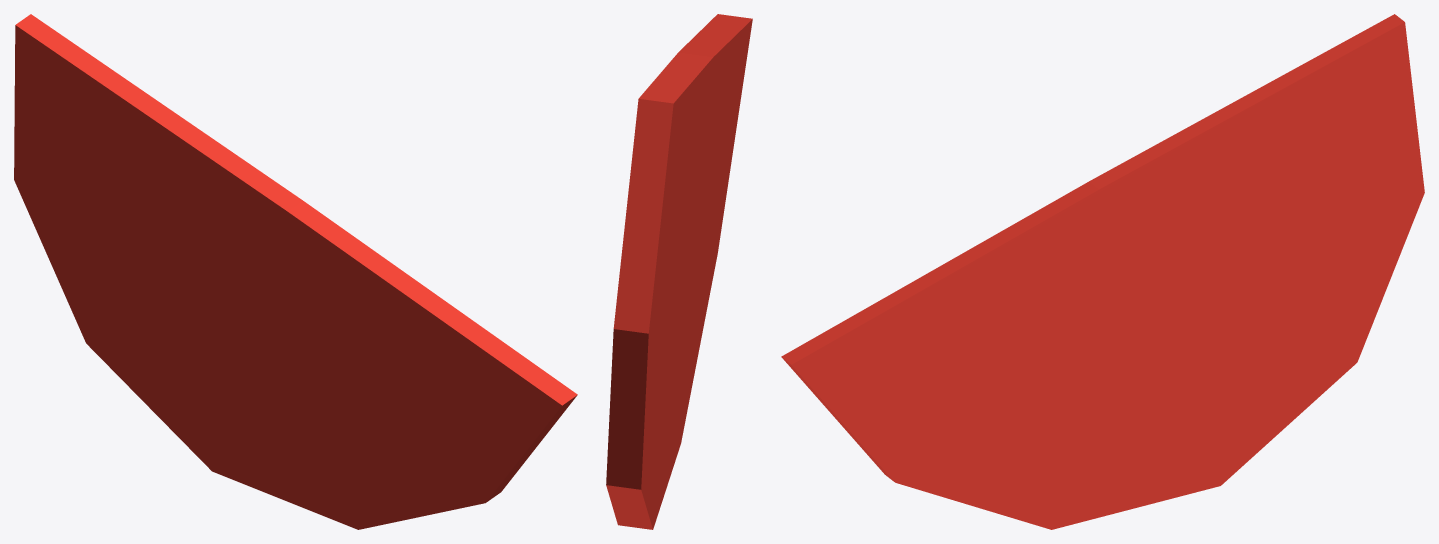
Rendered from n5_n5_group673815775_lev5.001.glb.
The picture shows the model from 3 angles, left to right: view 1: azimuth 30°, elevation 25°; view 2: azimuth 150°, elevation 25°; view 3: azimuth 270°, elevation 25°; orthographic projection. The views are drawn at different scales.
Parts seen in each view (by area): view 1: n5_n5_group673815775_lev5.001; view 2: n5_n5_group673815775_lev5.001; view 3: n5_n5_group673815775_lev5.001.
Boxes of the visible parts, x1,y1,x2,y2 form: n5_n5_group673815775_lev5.001: (14,14,577,529); n5_n5_group673815775_lev5.001: (606,14,752,529); n5_n5_group673815775_lev5.001: (781,14,1424,529).
Size of the model in its own units: 0.5439 by 0.825 by 1.13.
